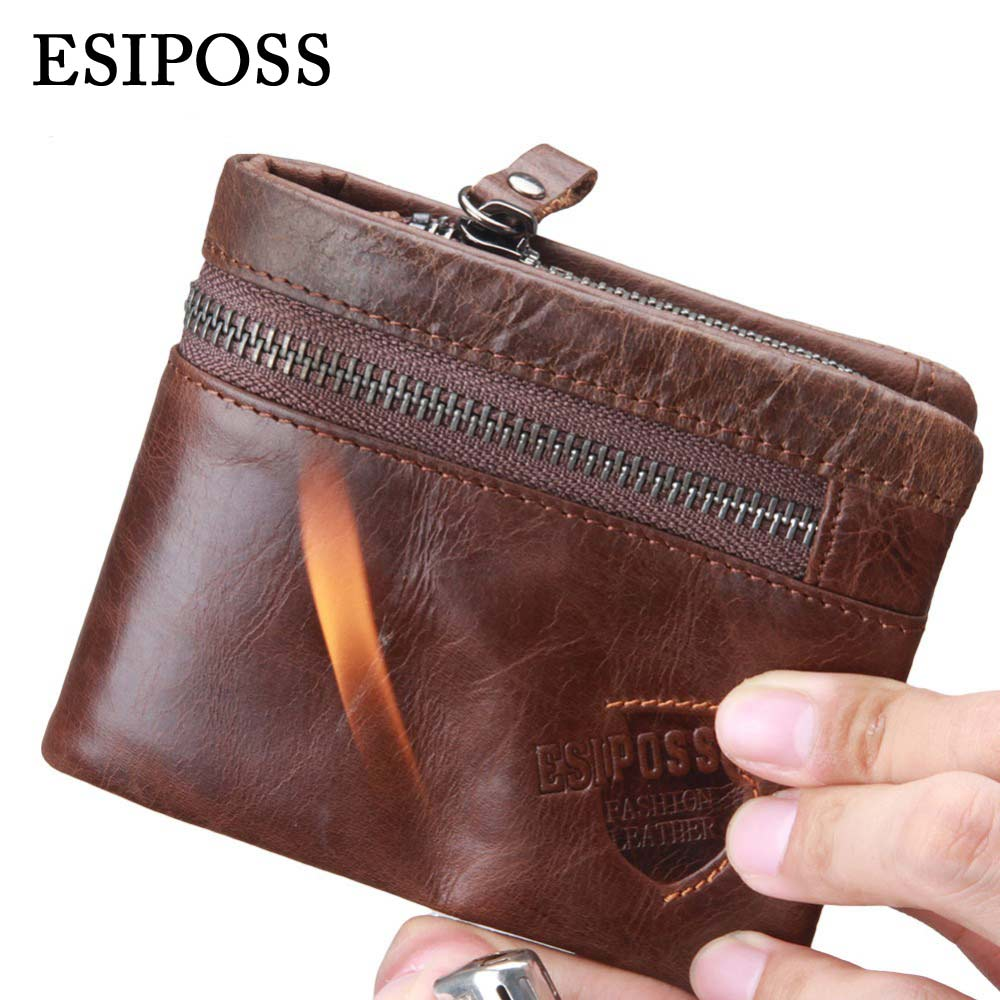monedero: (38, 148, 988, 995)
